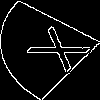X: (25, 25, 100, 79)
